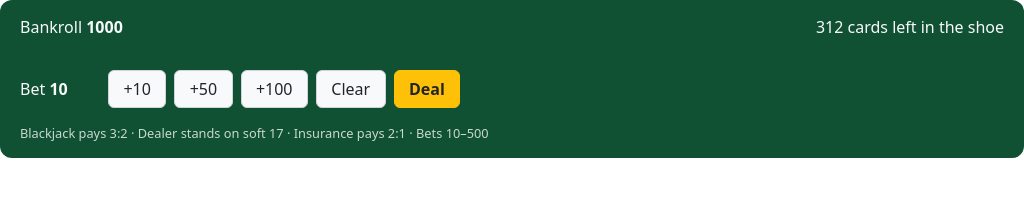
it: GamePage › shows the server's message when an action is rejected
What coordinates should you click on to do the following:
click the button "Deal"
I would click on:
 (427, 89)
Its box is [394,70,460,108].
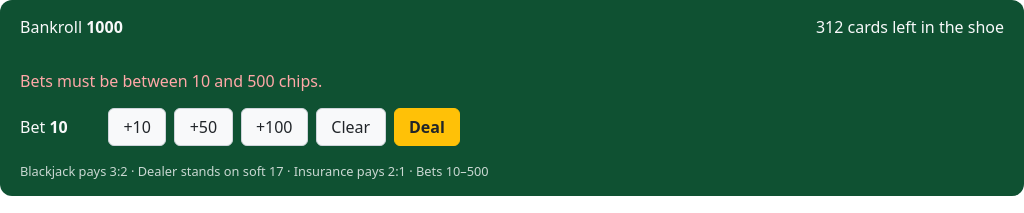
Expected: the message reads "Bets must be between 10 and 500 chips.", [20,70,322,92]
